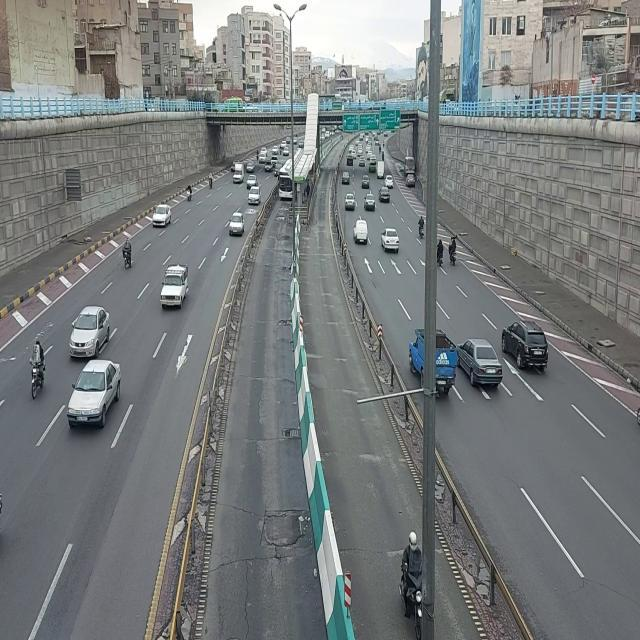Bus: (278, 157, 294, 203)
Car: (66, 358, 124, 433), (501, 315, 551, 373), (458, 335, 505, 393), (67, 303, 111, 361), (152, 202, 172, 234), (381, 225, 401, 257), (228, 210, 246, 238), (248, 185, 263, 205), (363, 194, 377, 214), (345, 191, 357, 213), (380, 185, 392, 205)
Motorcycle: (28, 332, 50, 403), (121, 235, 133, 271), (448, 233, 458, 269), (437, 238, 447, 266), (417, 213, 426, 239), (208, 170, 215, 192), (186, 183, 192, 203)
Pickup: (160, 263, 188, 313), (352, 217, 370, 245), (233, 161, 245, 187)
